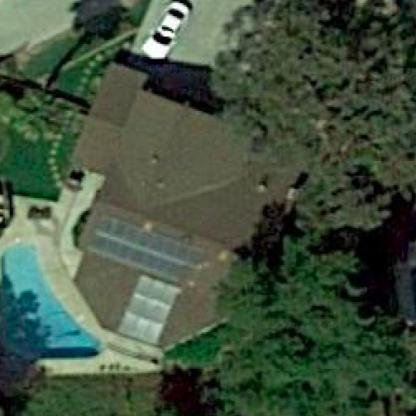car: (141, 1, 196, 66)
solar_panel: (79, 207, 215, 280), (122, 269, 184, 353)
swimming_pool: (1, 234, 106, 372)
